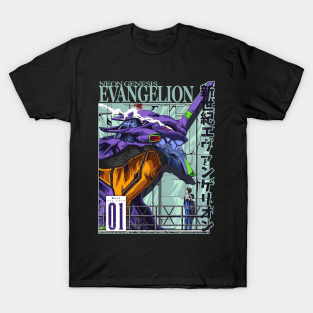design: (96, 77, 218, 236)
